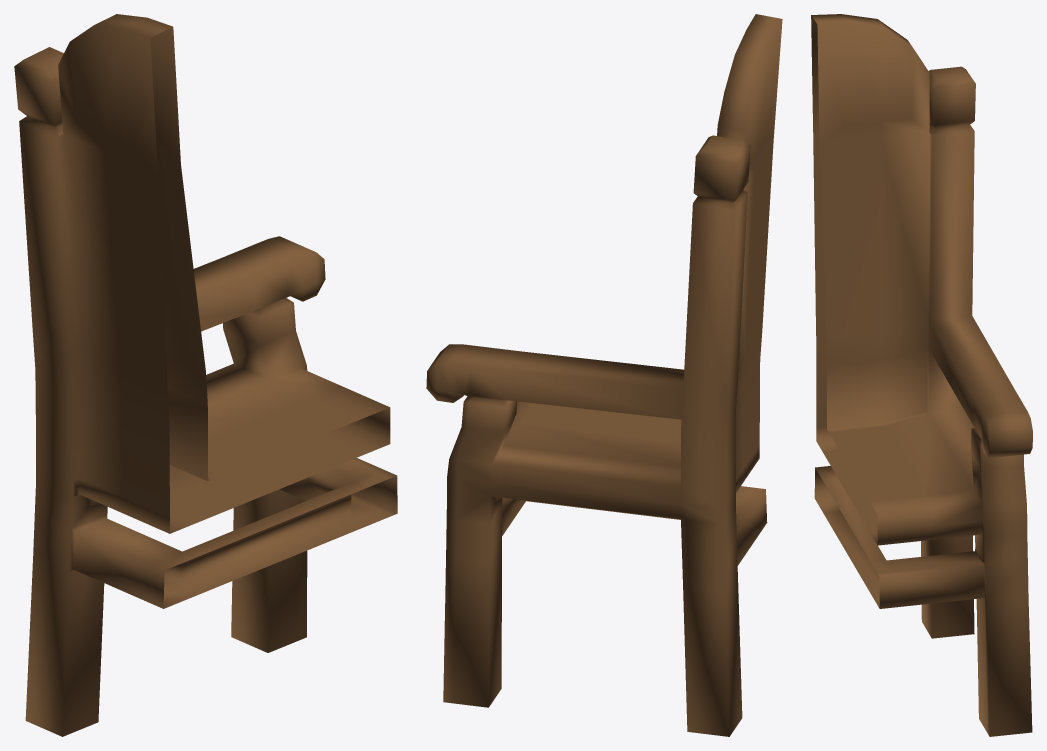
File: Kitchen_Chair.glb
3 views of the same model, side by side, from view 1: azimuth 30°, elevation 25°; view 2: azimuth 150°, elevation 25°; view 3: azimuth 270°, elevation 25° (orthographic). The views are drawn at different scales.
Parts seen in each view (by area): view 1: Kitchen_Chair; view 2: Kitchen_Chair; view 3: Kitchen_Chair.
Part boxes in pixels (left/top/right/bottom): Kitchen_Chair: left=14, top=14, right=397, bottom=736; Kitchen_Chair: left=426, top=14, right=782, bottom=736; Kitchen_Chair: left=811, top=14, right=1032, bottom=736.
Size of the model in its own units: 0.4178 by 0.8976 by 0.2926.
